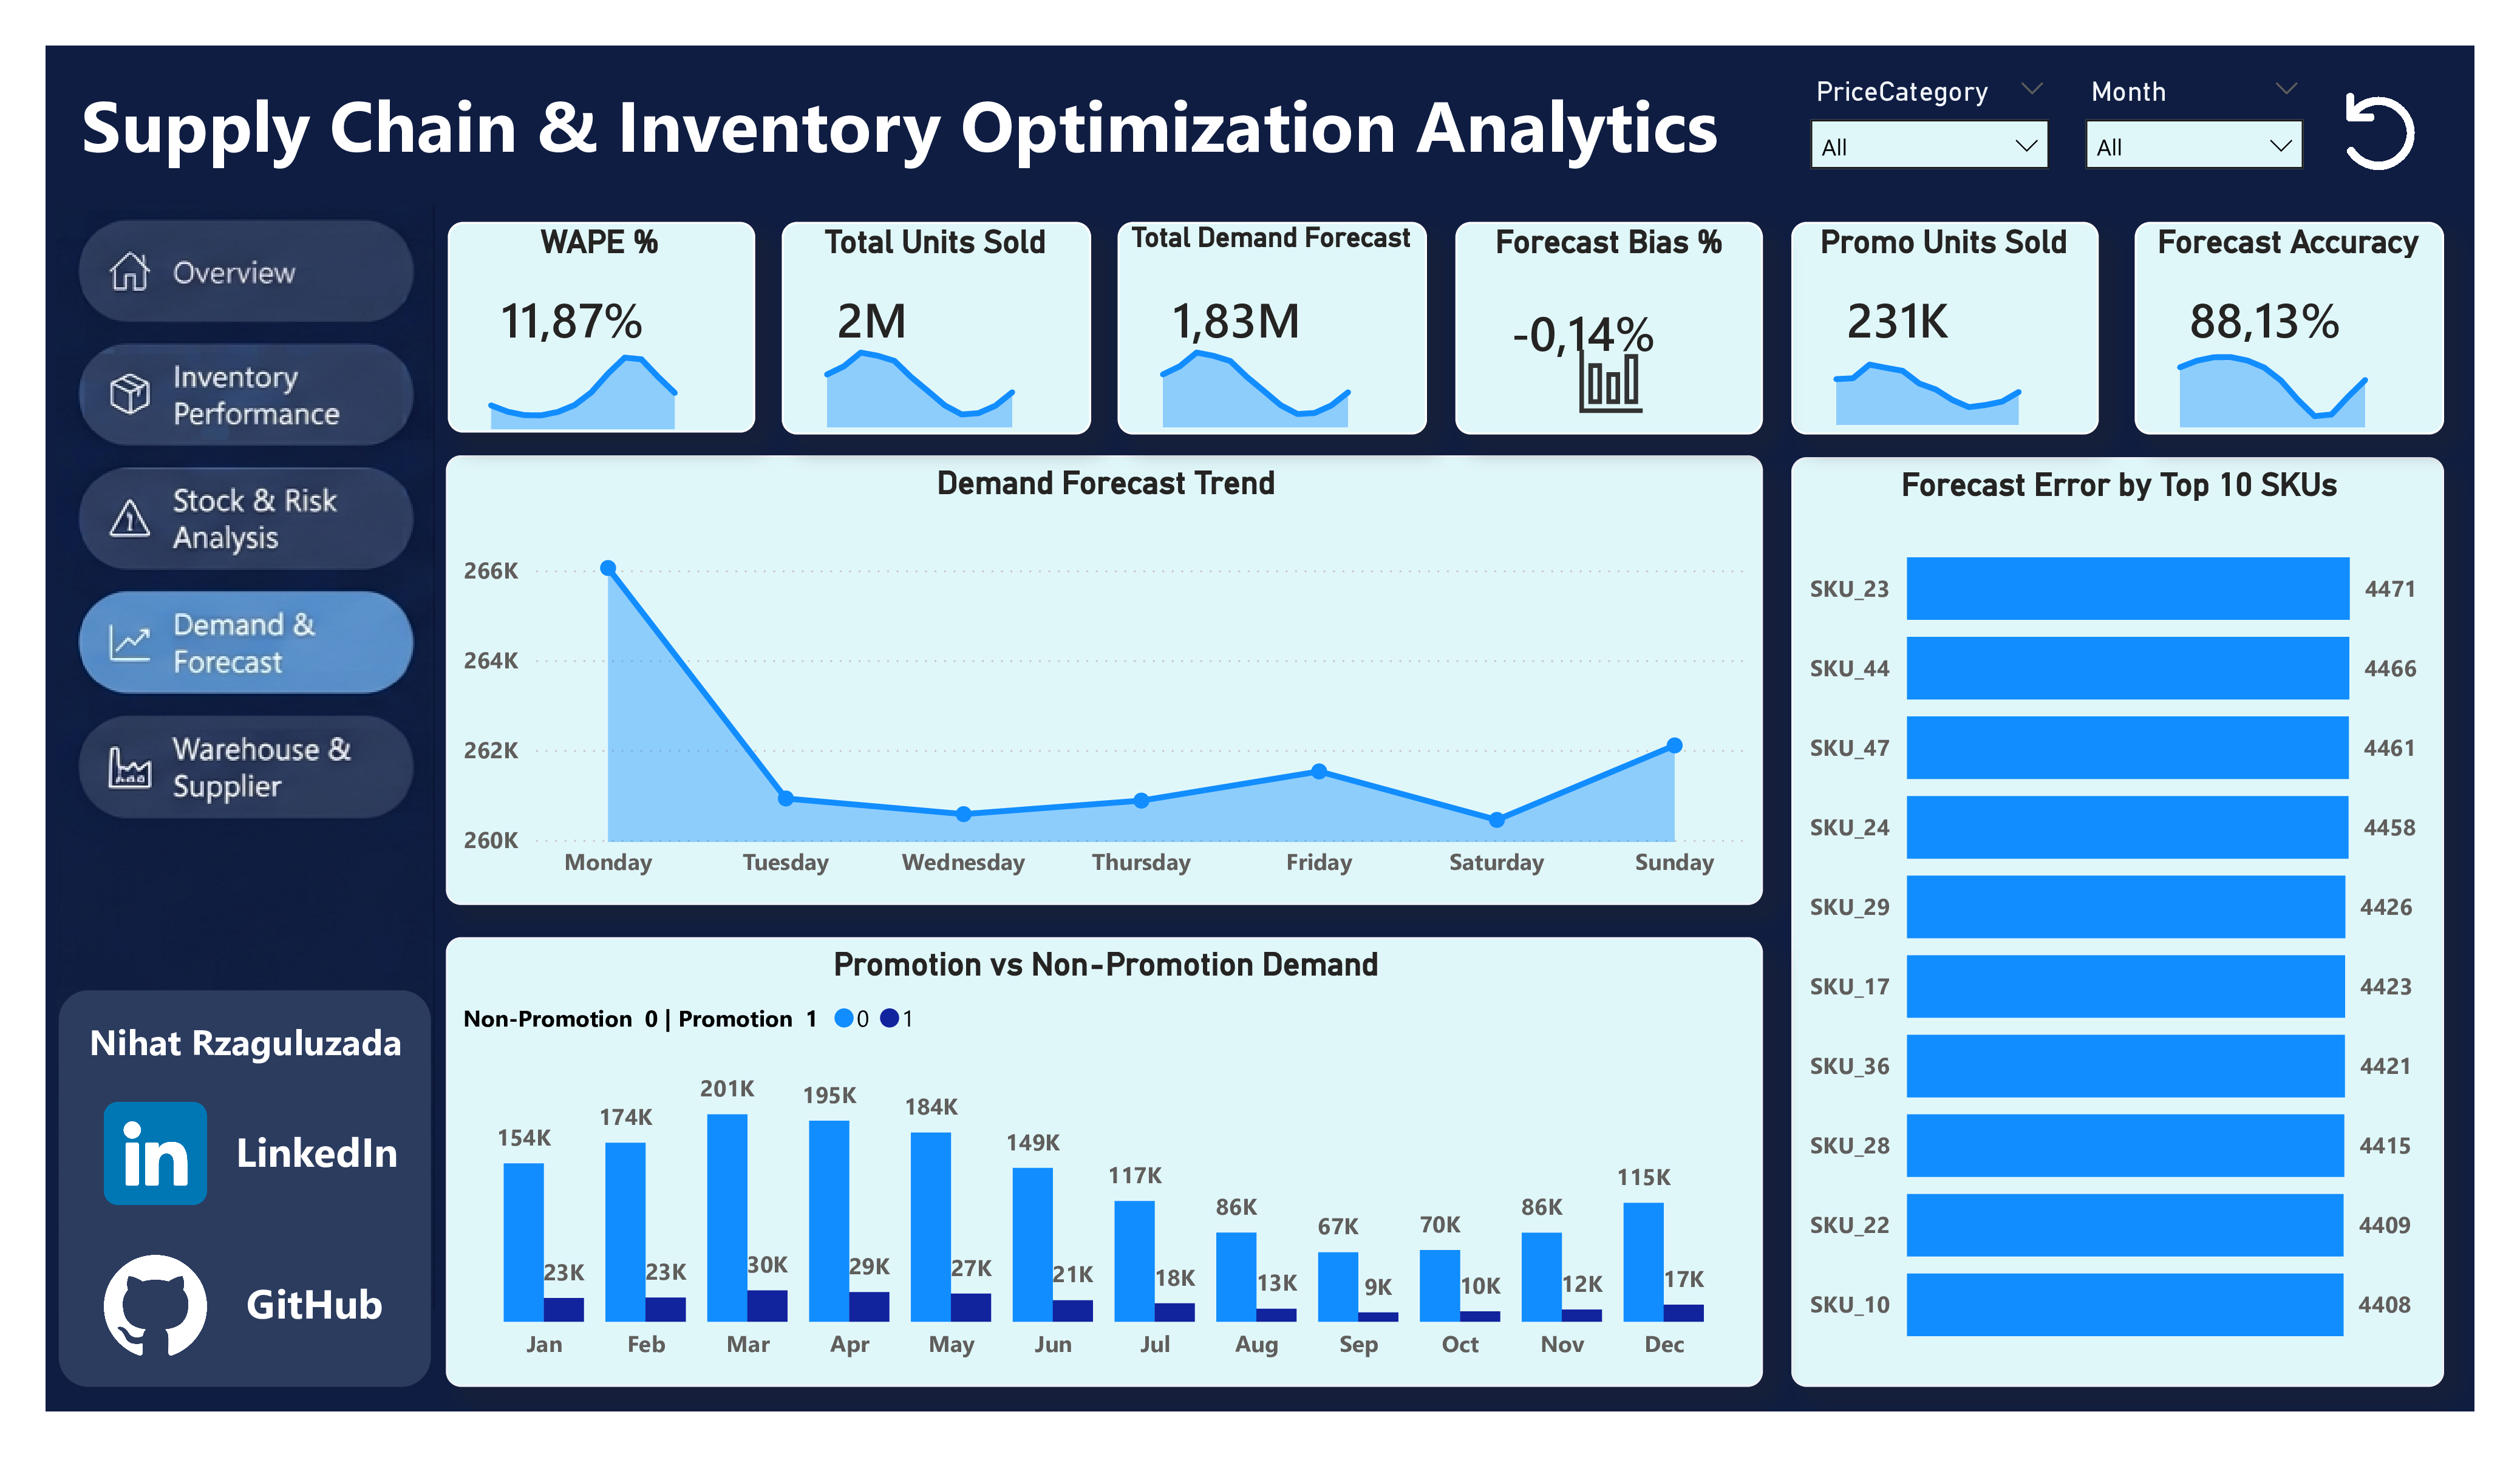

The page's visual inventory and layout, read from the dashboard file:
{"tool":"powerbi","page":{"name":"Demand & Forecast","canvas":[1280,720],"ordinal":3},"visuals":[{"type":"image","box":[6.3,84.4,198.3,581.1],"z":0},{"type":"lineChart","title":"Demand Forecast Trend","fields":{"Category":["dim_date.day_name"],"Y":["_Measures.Total Demand Forecast"]},"box":[211.5,216.3,693.6,236.8],"z":1000},{"type":"clusteredBarChart","title":"Forecast Error by Top 10 SKUs","fields":{"Category":["fact_inventory_daily.sku_id"],"Y":["_Measures.Total Forecast Error"]},"box":[920,216.7,344.4,490],"z":2000},{"type":"clusteredColumnChart","title":"Promotion vs Non-Promotion Demand","fields":{"Category":["dim_date.Month_Short"],"Y":["_Measures.Total Units Sold"],"Series":["fact_inventory_daily.promotion_flag"]},"box":[211.5,470,693.6,236.8],"z":3000},{"type":"lineChart","fields":{"Y":["_Measures.Total Profit"],"Category":["dim_date.month"]},"box":[391.5,136.5,161.9,65.2],"z":4000},{"type":"shape","box":[211.6,92.9,162.1,111.5],"z":5000},{"type":"cardVisual","title":"WAPE %","fields":{"Data":["_Measures.WAPE %"]},"box":[210.9,92.8,162.4,81.2],"z":6000},{"type":"lineChart","fields":{"Category":["dim_date.month"],"Y":["_Measures.WAPE %"]},"box":[210.9,145.5,162.4,61.2],"z":7000},{"type":"shape","box":[388.1,92.8,162.4,111.8],"z":8000},{"type":"shape","box":[565.3,92.8,162.4,111.8],"z":9000},{"type":"shape","box":[919.7,92.8,162.4,111.8],"z":10000},{"type":"shape","box":[742.5,92.8,162.4,111.8],"z":11000},{"type":"cardVisual","title":"Total Units Sold","fields":{"Data":["_Measures.Total Units Sold"]},"box":[387.9,93,161.9,81],"z":12000},{"type":"lineChart","fields":{"Category":["dim_date.month"],"Y":["_Measures.Total Units Sold"]},"box":[388.1,144.5,162.4,61.2],"z":13000},{"type":"cardVisual","title":"Total Demand Forecast","fields":{"Data":["_Measures.Total Demand Forecast"]},"box":[565.5,93,161.9,83.4],"z":15000},{"type":"cardVisual","title":"Forecast Bias %","fields":{"Data":["_Measures.Forecast Bias %"]},"box":[743.1,93,161.9,94.2],"z":16000},{"type":"lineChart","fields":{"Category":["dim_date.month"],"Y":["_Measures.Forecast Bias %"]},"box":[743.6,146.6,161.4,60.1],"z":17000},{"type":"cardVisual","title":"Promo Units Sold","fields":{"Data":["_Measures.Promo Units Sold"]},"box":[919.5,93,161.9,81],"z":18000},{"type":"lineChart","fields":{"Category":["dim_date.month"],"Y":["_Measures.Promo Units Sold"]},"box":[919.7,144.5,161.4,61.2],"z":19000},{"type":"shape","box":[1101.3,93.1,162.4,111.8],"z":20000},{"type":"cardVisual","title":"Forecast Accuracy ","fields":{"Data":["_Measures.Forecast Accuracy %"]},"box":[1101.1,93.4,161.9,81],"z":21000},{"type":"lineChart","fields":{"Category":["dim_date.month"],"Y":["_Measures.Forecast Accuracy %"]},"box":[1101.1,144.5,162.4,61.2],"z":22000},{"type":"shape","box":[16.9,158,178.2,53],"z":23000},{"type":"shape","box":[16.9,222,178.2,55],"z":24000},{"type":"shape","box":[17.9,286,178.2,53.8],"z":25000},{"type":"shape","box":[16.9,354,178.2,53.8],"z":26000},{"type":"shape","box":[16.9,90.7,178.2,55.9],"z":27000},{"type":"textbox","box":[13.7,10.5,891.2,82.3],"z":28000},{"type":"shape","box":[7.2,497.8,195.7,209],"z":29000},{"type":"shape","box":[66.5,685.1,23,23],"z":30000},{"type":"image","box":[27.8,636.8,60.4,54.4],"z":31000},{"type":"image","box":[26.6,557,61.6,54.4],"z":32000},{"type":"textbox","box":[18.1,507.5,177.6,41.1],"z":33000},{"type":"textbox","box":[95.5,563.1,105.1,42.3],"z":34000},{"type":"textbox","box":[101.5,642.8,95.5,42.3],"z":35000},{"type":"lineChart","fields":{"Category":["dim_date.month"],"Y":["_Measures.Total Demand Forecast"]},"box":[565.3,144.5,162.4,61.2],"z":38500},{"type":"slicer","fields":{"Values":["dim_date.month"]},"box":[1065.3,10.5,135,70.7],"z":38501},{"type":"slicer","fields":{"Values":["fact_inventory_daily.Price Category"]},"box":[919.5,10.9,146.2,70.1],"z":38502},{"type":"image","box":[1199.2,21.1,60.1,50.6],"z":38503}]}

Visuals, with their boxes on the page's 1280x720 design canvas (x1, y1, x2, y2). These are canvas units, not pixel positions in the 2520x1457 screenshot, which may show the page scaled, cropped or inside an application window:
image: rect(6, 84, 205, 666)
"Demand Forecast Trend" lineChart: rect(212, 216, 905, 453)
"Forecast Error by Top 10 SKUs" clusteredBarChart: rect(920, 217, 1264, 707)
"Promotion vs Non-Promotion Demand" clusteredColumnChart: rect(212, 470, 905, 707)
lineChart - _Measures.Total Profit x dim_date.month: rect(392, 136, 553, 202)
shape: rect(212, 93, 374, 204)
"WAPE %" cardVisual: rect(211, 93, 373, 174)
lineChart - dim_date.month x _Measures.WAPE %: rect(211, 146, 373, 207)
shape: rect(388, 93, 550, 205)
shape: rect(565, 93, 728, 205)
shape: rect(920, 93, 1082, 205)
shape: rect(742, 93, 905, 205)
"Total Units Sold" cardVisual: rect(388, 93, 550, 174)
lineChart - dim_date.month x _Measures.Total Units Sold: rect(388, 144, 550, 206)
"Total Demand Forecast" cardVisual: rect(566, 93, 727, 176)
"Forecast Bias %" cardVisual: rect(743, 93, 905, 187)
lineChart - dim_date.month x _Measures.Forecast Bias %: rect(744, 147, 905, 207)
"Promo Units Sold" cardVisual: rect(920, 93, 1081, 174)
lineChart - dim_date.month x _Measures.Promo Units Sold: rect(920, 144, 1081, 206)
shape: rect(1101, 93, 1264, 205)
"Forecast Accuracy " cardVisual: rect(1101, 93, 1263, 174)
lineChart - dim_date.month x _Measures.Forecast Accuracy %: rect(1101, 144, 1264, 206)
shape: rect(17, 158, 195, 211)
shape: rect(17, 222, 195, 277)
shape: rect(18, 286, 196, 340)
shape: rect(17, 354, 195, 408)
shape: rect(17, 91, 195, 147)
textbox: rect(14, 10, 905, 93)
shape: rect(7, 498, 203, 707)
shape: rect(66, 685, 90, 708)
image: rect(28, 637, 88, 691)
image: rect(27, 557, 88, 611)
textbox: rect(18, 508, 196, 549)
textbox: rect(96, 563, 201, 605)
textbox: rect(102, 643, 197, 685)
lineChart - dim_date.month x _Measures.Total Demand Forecast: rect(565, 144, 728, 206)
slicer - dim_date.month: rect(1065, 10, 1200, 81)
slicer - fact_inventory_daily.Price Category: rect(920, 11, 1066, 81)
image: rect(1199, 21, 1259, 72)
